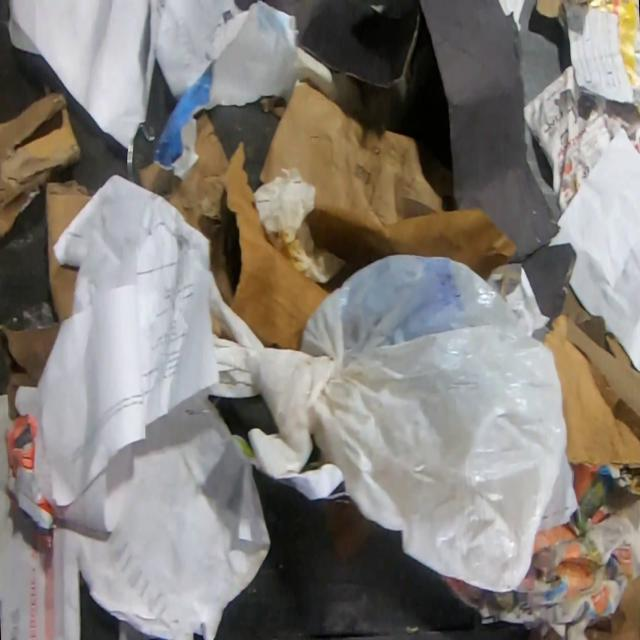cardboard: (135, 80, 516, 350), (420, 0, 576, 332), (540, 286, 640, 469), (297, 0, 424, 138), (0, 91, 83, 241), (231, 428, 349, 502), (44, 179, 96, 323), (205, 334, 259, 400), (585, 576, 640, 639), (210, 318, 235, 342), (535, 0, 563, 20)
metal: (126, 141, 136, 184), (138, 121, 156, 141)
soft_plastic: (206, 253, 569, 594), (3, 413, 56, 537)
